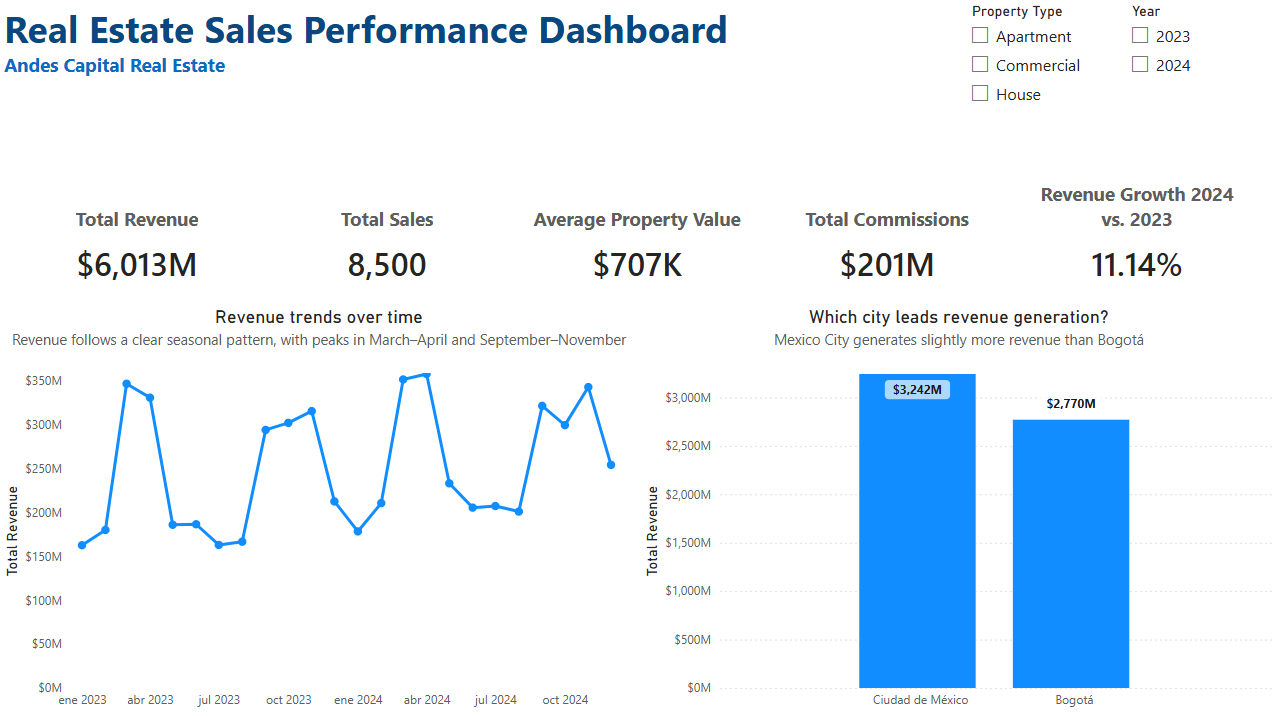

What the dashboard file says about the page in this screenshot:
{"tool":"powerbi","page":{"name":"Overview","canvas":[1280,720],"ordinal":0},"visuals":[{"type":"textbox","box":[0,0,960,161.1],"z":4000},{"type":"lineChart","title":"Revenue trends over time","fields":{"Y":["_Measures.m_4.1_Ingreso Total"],"Category":["dim_date.Year_Month"]},"box":[0,307.8,640,412.2],"z":5000},{"type":"clusteredColumnChart","title":"Which city leads revenue generation?","fields":{"Y":["_Measures.m_4.1_Ingreso Total"],"Category":["hecho_ventas_propiedades.ciudad"]},"box":[640,307.8,640,412.2],"z":6000},{"type":"slicer","fields":{"Values":["dim_date.Year"]},"box":[1120,0,160,161.1],"z":8000},{"type":"slicer","fields":{"Values":["dim_propiedades.tipo_propiedad"]},"box":[960,0,160,161.1],"z":9000},{"type":"cardVisual","fields":{"Data":["Medidas.m_Ingreso Total","_Measures.m_4.1_Cantidad de Ventas","_Measures.m_4.1_Ticket Promedio","_Measures.m_4.1_Comisión Total","_Measures.Revenue Growth 2024 vs. 2023"]},"box":[0,161.1,1280,146.7],"z":10000}]}

Visuals, with their boxes in screenshot pixels (x1, y1, x2, y2), scaled from the page's 1280x720 canvas onto the 1277x716 screenshot:
textbox: [0,0,958,160]
"Revenue trends over time" lineChart: [0,306,638,715]
"Which city leads revenue generation?" clusteredColumnChart: [638,306,1276,715]
slicer - dim_date.Year: [1117,0,1276,160]
slicer - dim_propiedades.tipo_propiedad: [958,0,1117,160]
cardVisual - Medidas.m_Ingreso Total x _Measures.m_4.1_Cantidad de Ventas: [0,160,1276,306]
